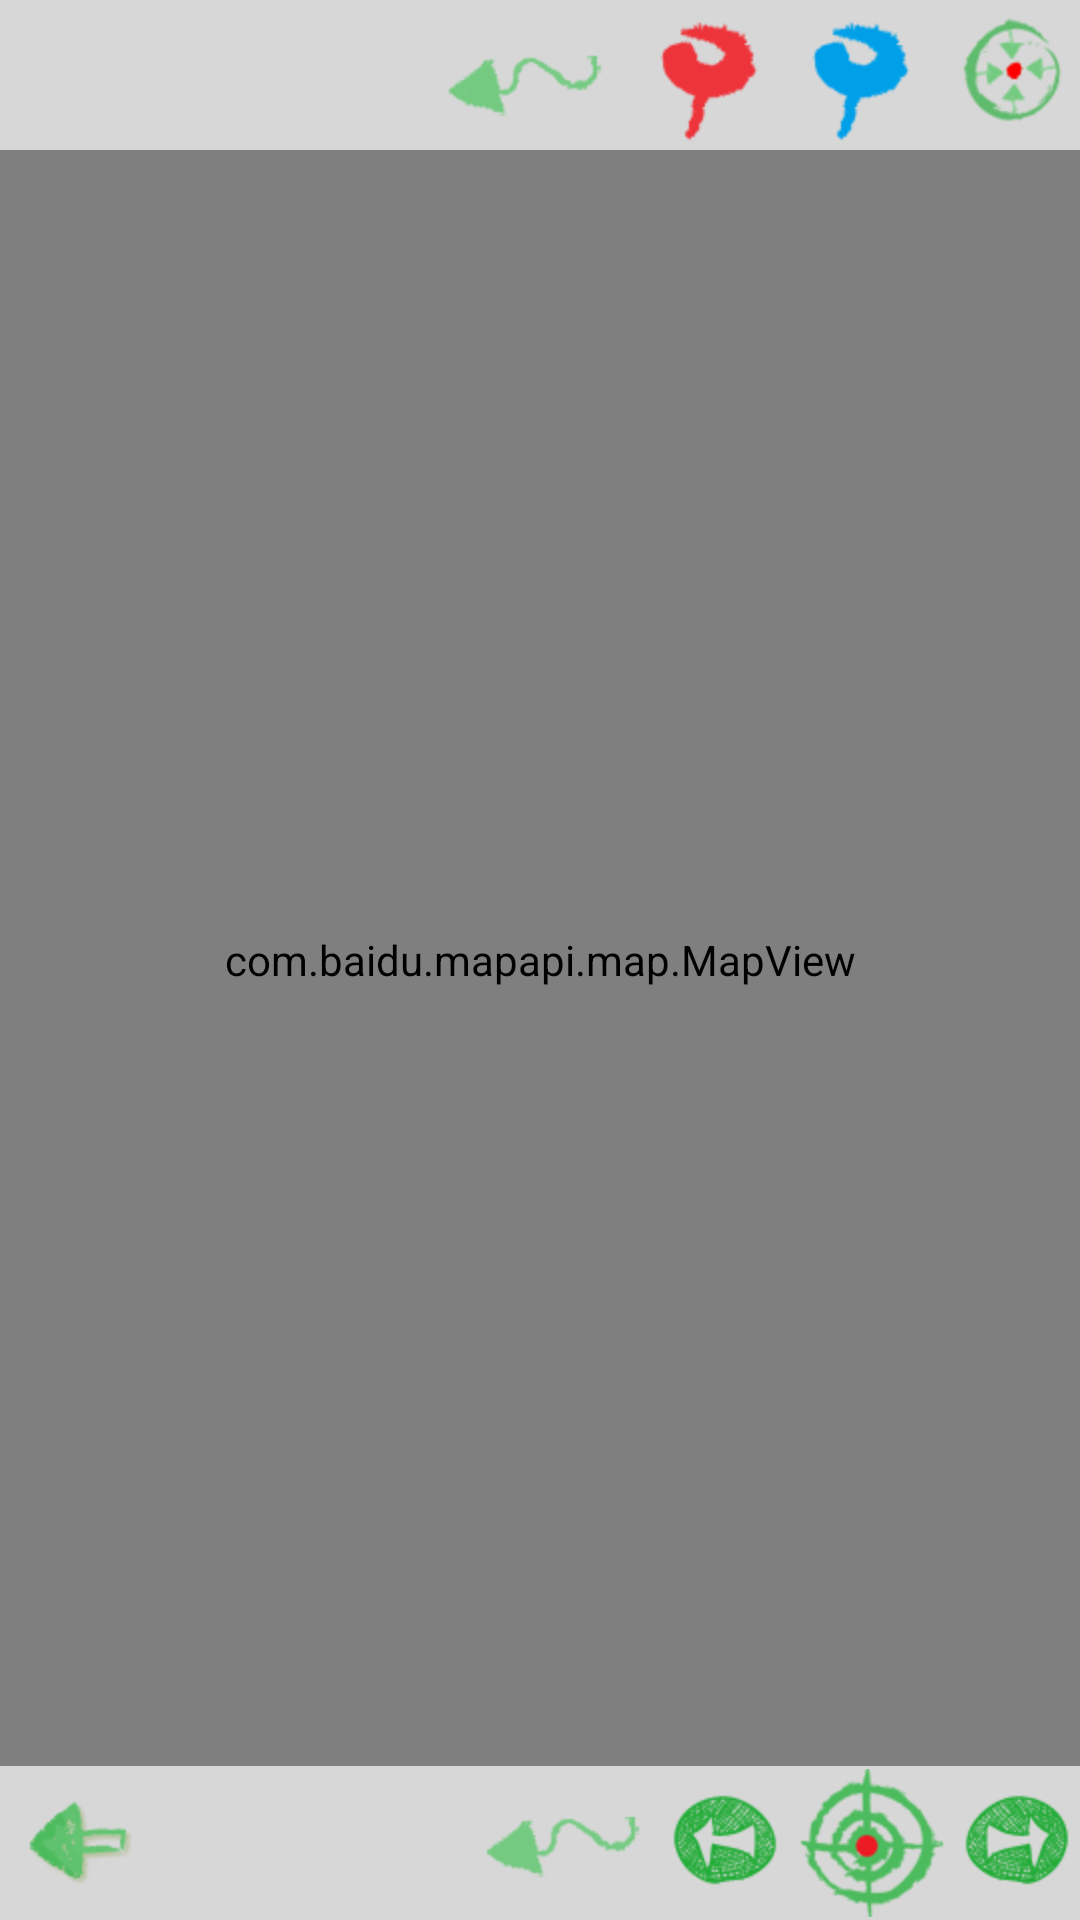

Where to tap for icons on this 1080px x 1920px app screen, as (x,y):
map next: (1017,1840)
map pre: (725,1840)
map route: (525,86)
